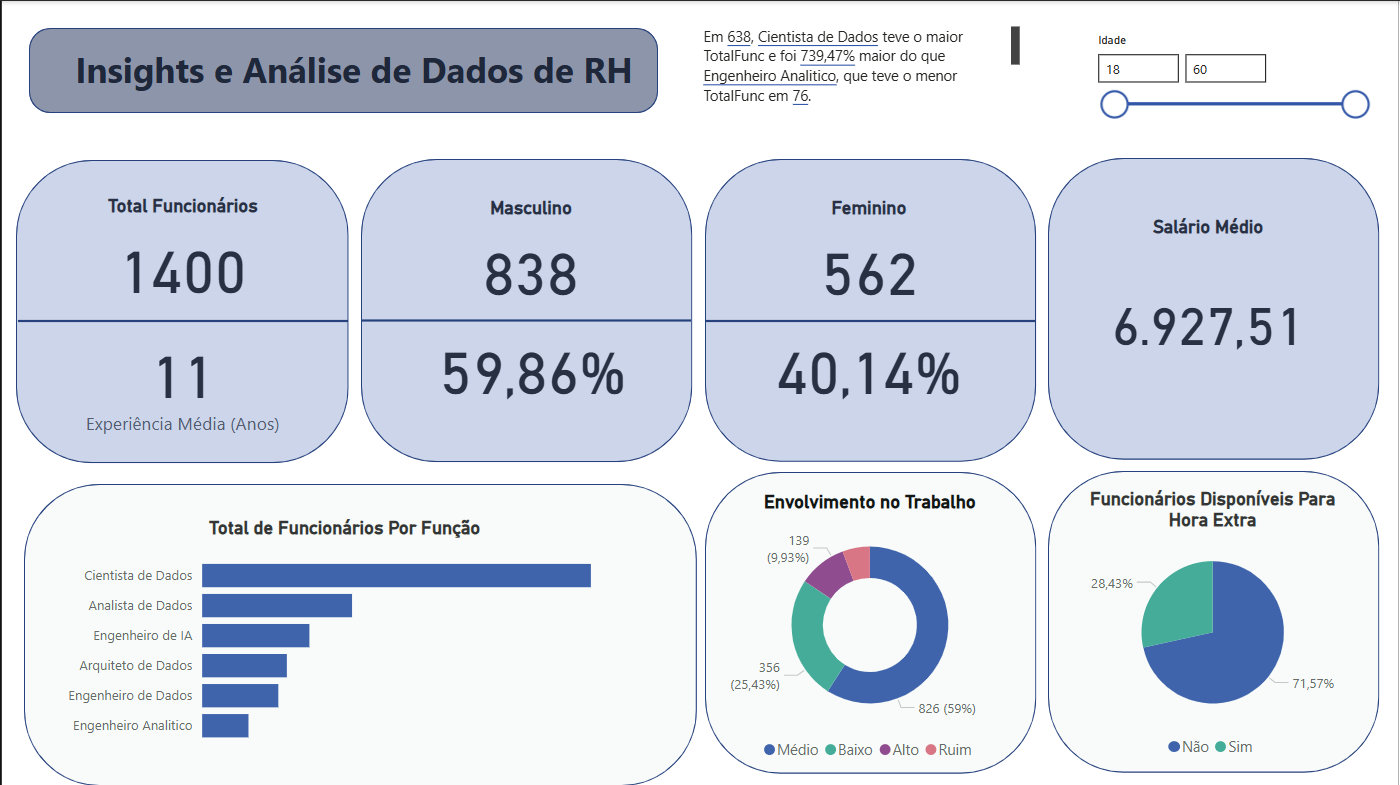

Layout of this report page (visuals, bound fields, positions):
{"tool":"powerbi","page":{"name":"Mini-Projeto","canvas":[1280,720],"ordinal":0},"visuals":[{"type":"card","title":"Total Funcionários","fields":{"Values":["Medidas.TotalFunc"]},"box":[46.8,177.7,238.1,108.7],"z":0},{"type":"card","title":"Salário Médio","fields":{"Values":["Medidas.SalarioMedio"]},"box":[982.2,197.6,247.7,173.4],"z":1000},{"type":"card","title":"Masculino","fields":{"Values":["Medidas.TotalMasculino"]},"box":[391.5,179.7,187.2,108.7],"z":2000},{"type":"card","fields":{"Values":["Medidas.% Masculino"]},"box":[392.2,288.5,187.2,92.2],"z":3000},{"type":"card","title":"Feminino","fields":{"Values":["Medidas.TotalFeminino"]},"box":[701.4,179.7,187.1,109.1],"z":4000},{"type":"card","fields":{"Values":["Medidas.% Feminino"]},"box":[701.4,288.7,187.1,91.7],"z":5000},{"type":"pieChart","title":"Funcionários Disponíveis Para Hora Extra","fields":{"Category":["DatasetRH.Disponivel_Hora_Extra"],"Y":["Medidas.TotalFunc"]},"box":[979.7,446.8,261.7,256],"z":6000},{"type":"barChart","title":"Total de Funcionários Por Função","fields":{"Category":["DatasetRH.Funcao"],"Y":["Medidas.TotalFunc"]},"box":[48.3,472.8,531.3,218.8],"z":7000},{"type":"textbox","box":[29.3,18.3,586.8,73.4],"z":8000},{"type":"shape","box":[24.8,24.8,576.7,77.9],"z":9000},{"type":"slicer","fields":{"Values":["DatasetRH.Idade"]},"box":[992.1,24.8,270.5,89.9],"z":10000},{"type":"card","fields":{"Values":["Avg(DatasetRH.Anos_Experiencia)"]},"box":[46.8,294.7,238.1,108.7],"z":11000},{"type":"donutChart","title":"Envolvimento no Trabalho","fields":{"Category":["DatasetRH.Envolvimento_Trabalho"],"Y":["Medidas.TotalFunc"]},"box":[653.9,449,284,256],"z":12000},{"type":"shape","box":[644.7,431.9,303.7,276.6],"z":13000},{"type":"shape","box":[959.3,430.5,303.7,276.6],"z":14000},{"type":"shape","box":[959.3,144.4,303.7,276.6],"z":15000},{"type":"shape","box":[644.4,145,303.6,277.6],"z":16000},{"type":"shape","box":[329.5,145.1,303.7,278],"z":17000},{"type":"shape","box":[12.9,145.5,305.2,278.1],"z":18000},{"type":"shape","box":[20.2,442.9,617.1,276.9],"z":19000},{"type":"shape","box":[329.2,143,302.6,299.8],"z":20000},{"type":"shape","box":[645.5,143,302.6,300.7],"z":21000},{"type":"shape","box":[14.7,144,302.6,298.9],"z":22000},{"type":"textbox","box":[638.2,18.3,299.8,96.3],"z":22001}]}

Visuals, with their boxes in screenshot pixels (x1, y1, x2, y2), scaled from the page's 1280x720 canvas onto the 1400x785 screenshot:
"Total Funcionários" card: crop(51, 194, 312, 312)
"Salário Médio" card: crop(1074, 215, 1345, 404)
"Masculino" card: crop(428, 196, 633, 314)
card - Medidas.% Masculino: crop(429, 315, 634, 415)
"Feminino" card: crop(767, 196, 972, 315)
card - Medidas.% Feminino: crop(767, 315, 972, 415)
"Funcionários Disponíveis Para Hora Extra" pieChart: crop(1072, 487, 1358, 766)
"Total de Funcionários Por Função" barChart: crop(53, 515, 634, 754)
textbox: crop(32, 20, 674, 100)
shape: crop(27, 27, 658, 112)
slicer - DatasetRH.Idade: crop(1085, 27, 1381, 125)
card - Avg(DatasetRH.Anos_Experiencia): crop(51, 321, 312, 440)
"Envolvimento no Trabalho" donutChart: crop(715, 490, 1026, 769)
shape: crop(705, 471, 1037, 772)
shape: crop(1049, 469, 1381, 771)
shape: crop(1049, 157, 1381, 459)
shape: crop(705, 158, 1037, 461)
shape: crop(360, 158, 693, 461)
shape: crop(14, 159, 348, 462)
shape: crop(22, 483, 697, 784)
shape: crop(360, 156, 691, 483)
shape: crop(706, 156, 1037, 484)
shape: crop(16, 157, 347, 483)
textbox: crop(698, 20, 1026, 125)
